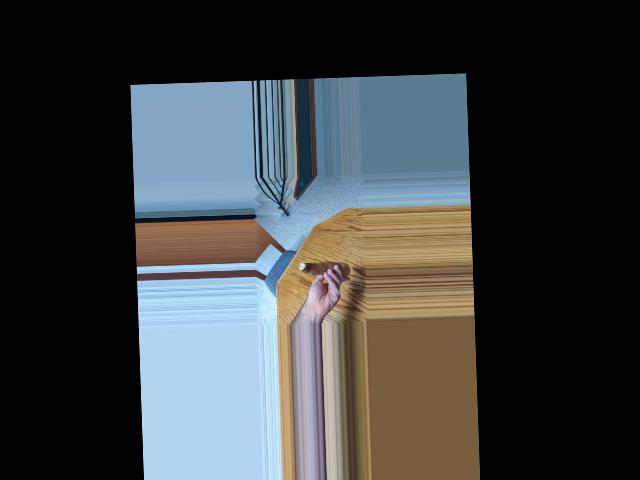sweet_potato: (297, 262, 341, 274)
